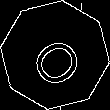O_NE: (22, 23, 88, 87)
